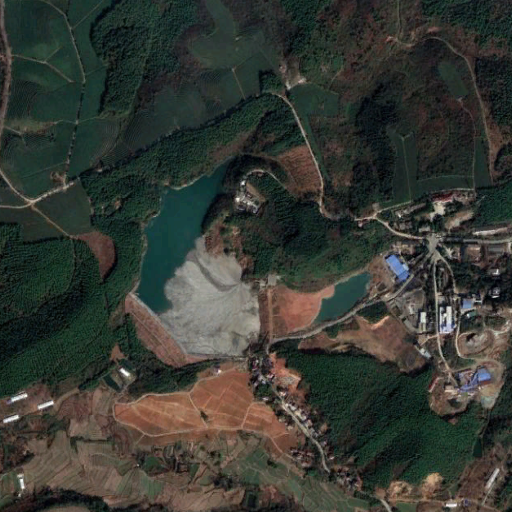tp: (128, 157, 385, 366)
